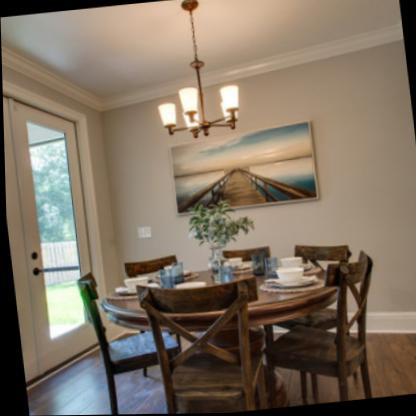Dining Table: (72, 231, 387, 415)
Frame: (169, 122, 319, 215)
